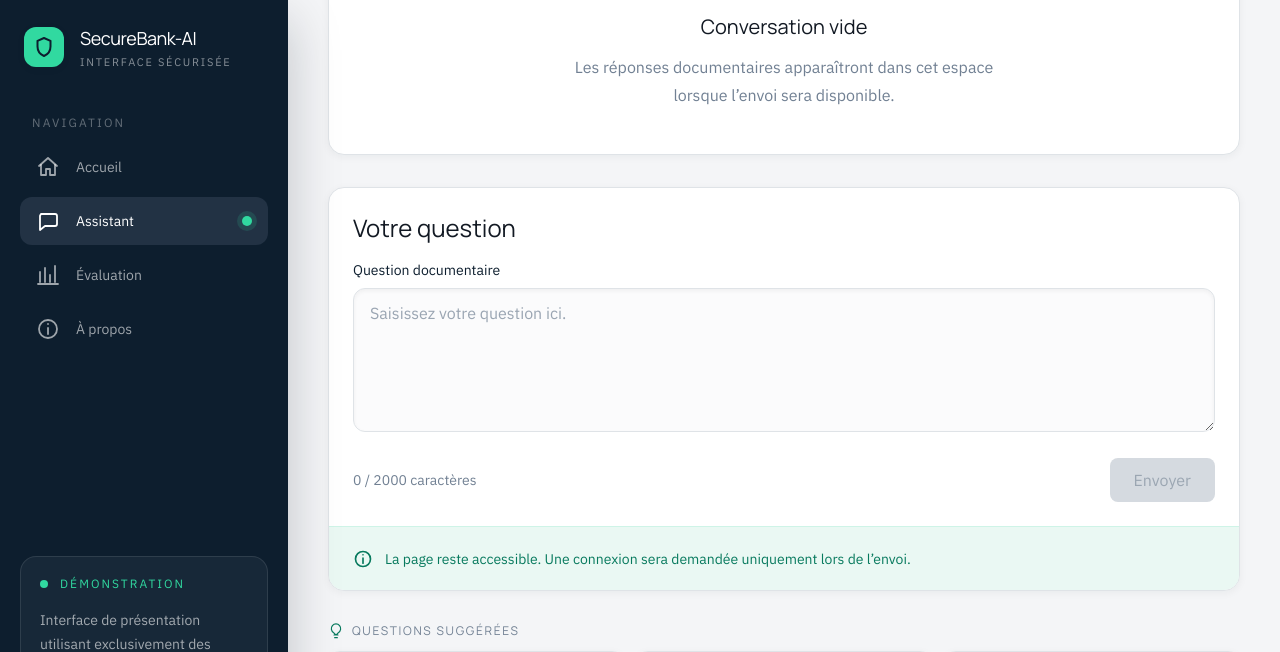
on-demand authentication › opens only after a RAG submission and closes with cancel
This screenshot has width=1280, height=652.
(page scrolled)
Type "Question conservée" into the text box labelled "Question documentaire" at [784, 360], box x1=353 y1=288 x2=1215 y2=432
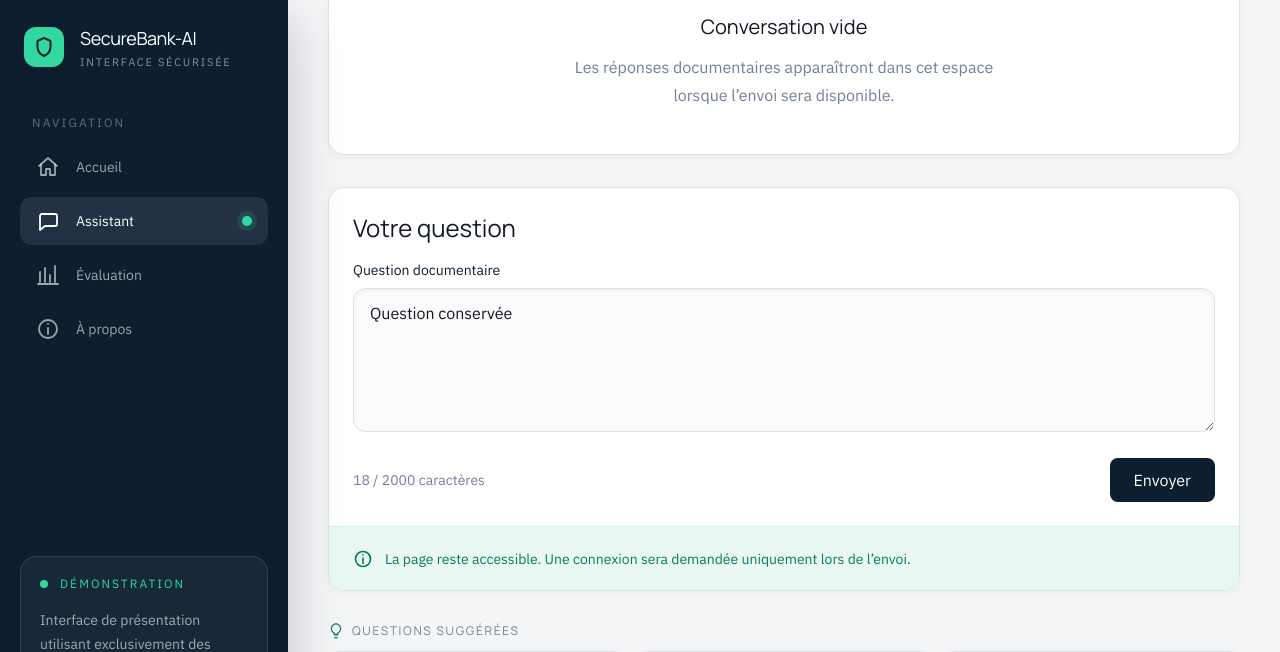
Click the button "Envoyer" at [1162, 480], box x1=1110 y1=458 x2=1215 y2=502
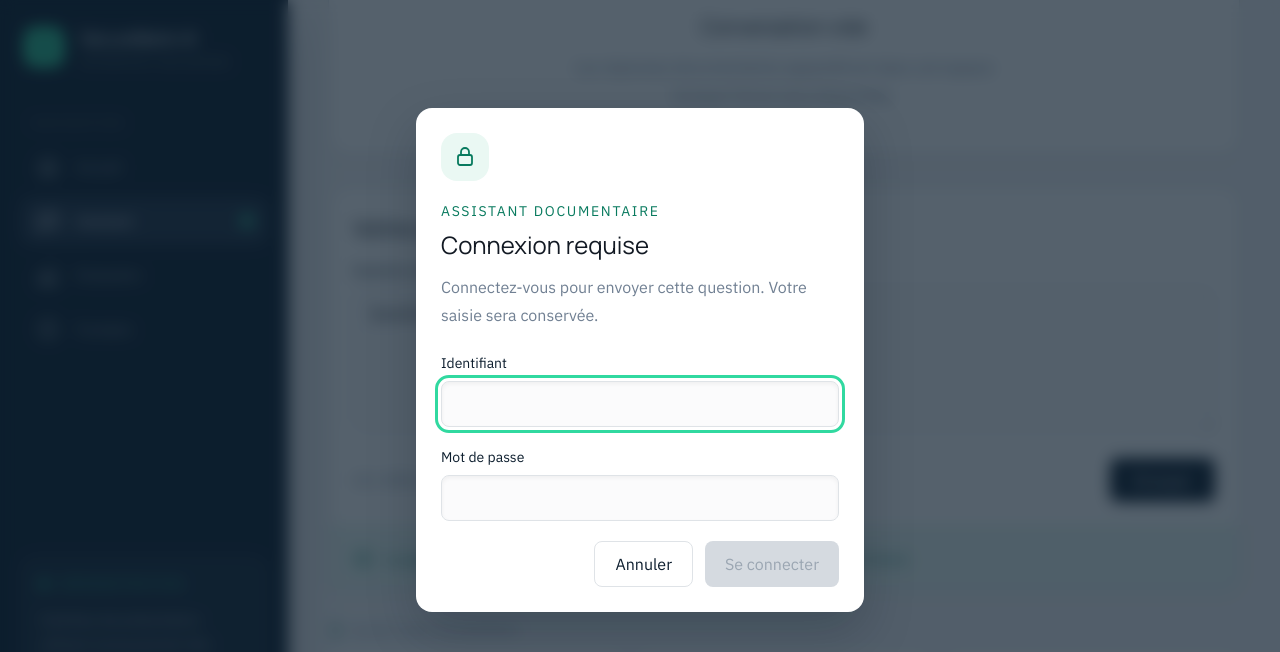
Check: the dialog "Connexion requise" is shown, box x1=416 y1=108 x2=864 y2=612
Click the button "Annuler" at [644, 564], box x1=594 y1=541 x2=693 y2=587
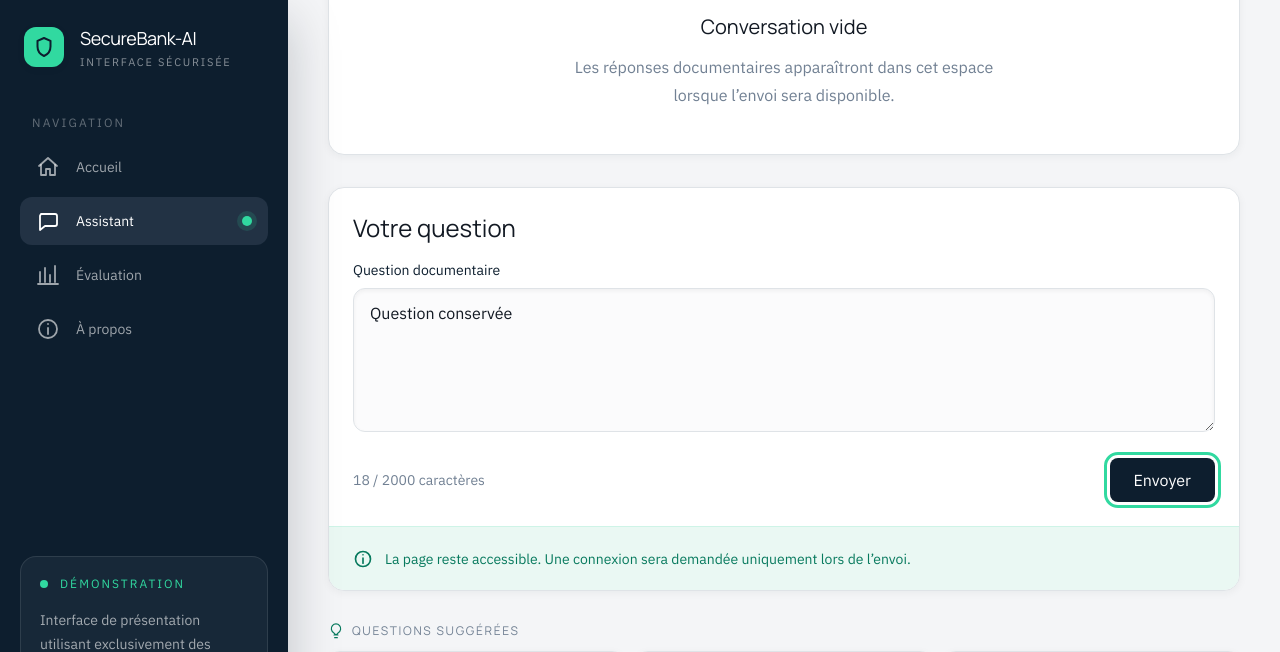
Check: the dialog is gone
